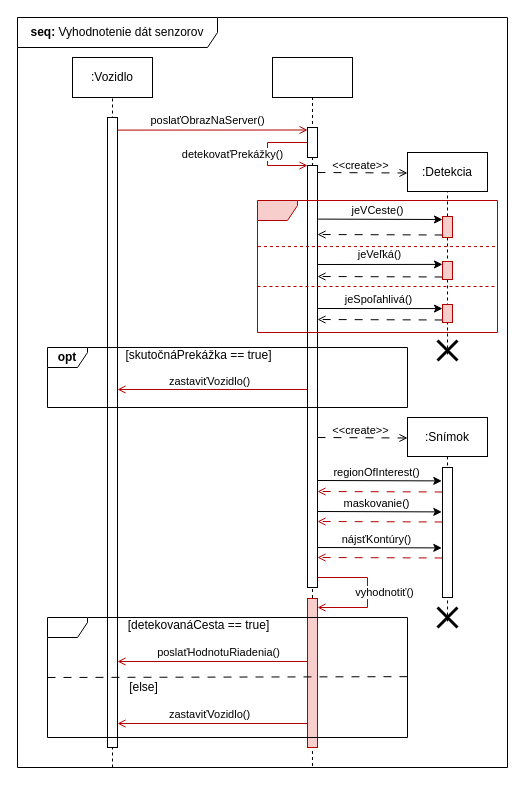
The diagram is 525 pixels wide and 786 high, and some of its shapes have lost their labels. Each missing label, with the box of its shape:
:Server: (272, 56, 352, 98)
alt: (46, 616, 408, 738)
par: (256, 200, 498, 332)
